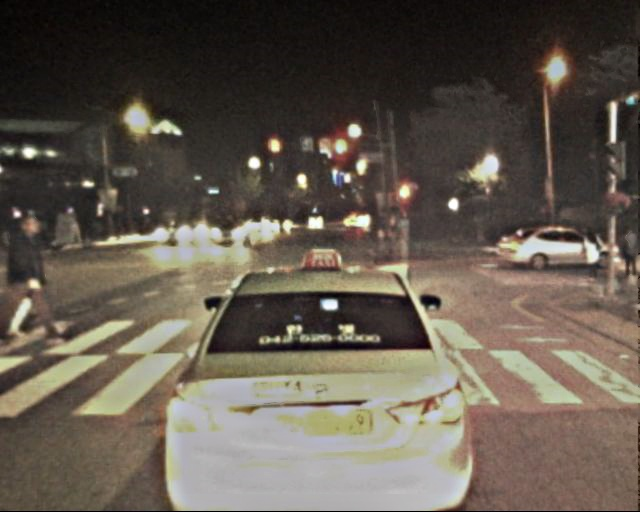person: (8, 213, 60, 341), (368, 229, 419, 312), (580, 225, 607, 291), (617, 227, 639, 285)
